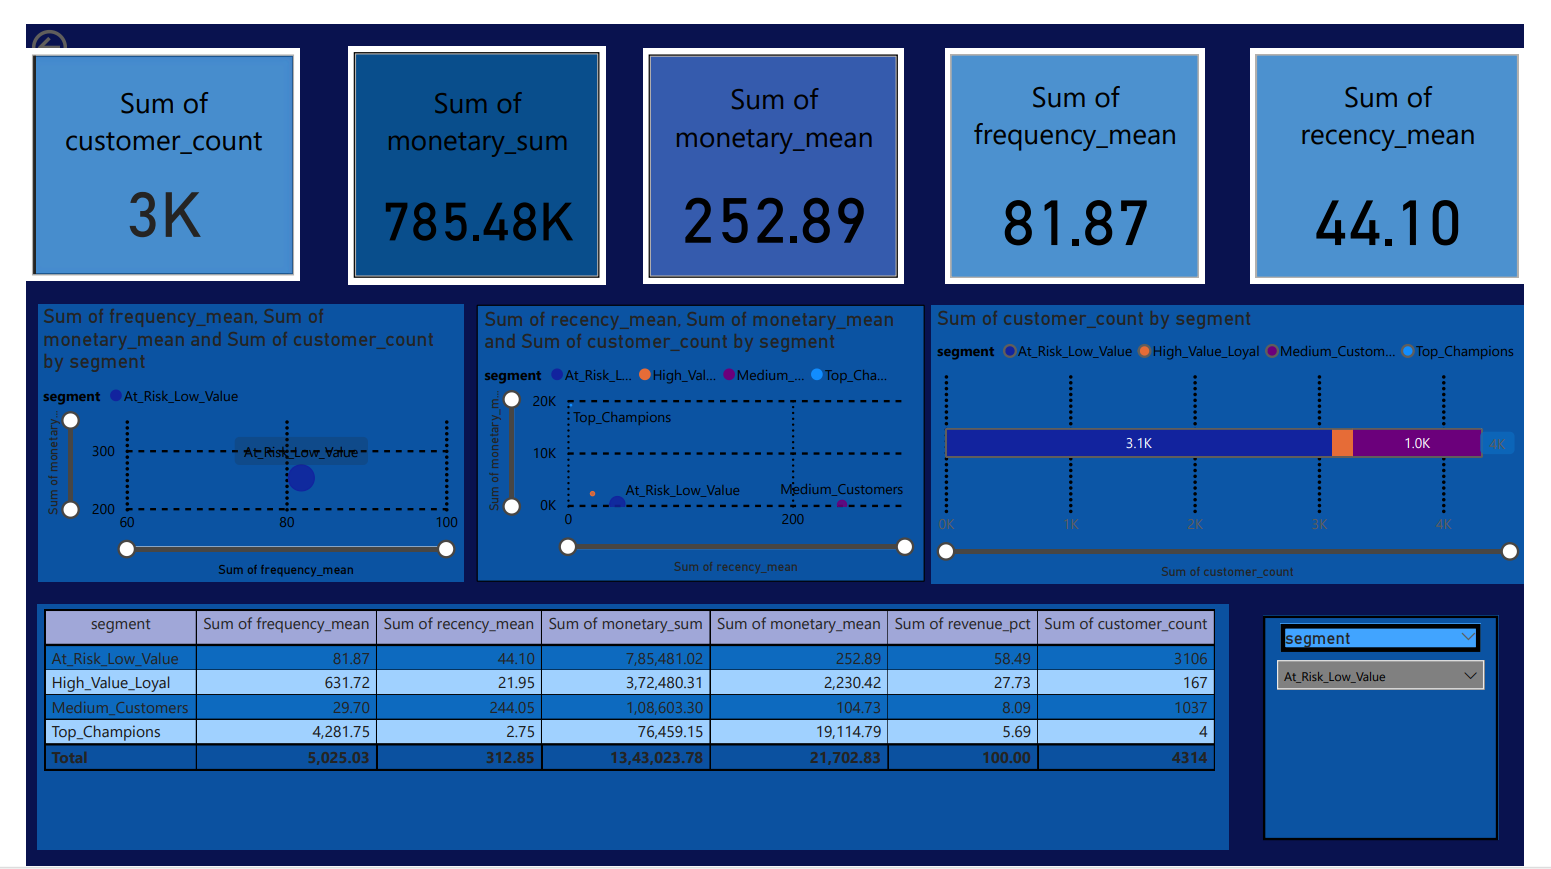

The page's visual inventory and layout, read from the dashboard file:
{"tool":"powerbi","page":{"name":"Page 1","canvas":[1280,720],"ordinal":0},"visuals":[{"type":"scatterChart","fields":{"X":["Sum(RFM_SegmentSummary_Enhanced.frequency_mean)"],"Y":["Sum(RFM_SegmentSummary_Enhanced.monetary_mean)"],"Series":["RFM_SegmentSummary_Enhanced.segment"],"Size":["Sum(RFM_SegmentSummary_Enhanced.customer_count)"]},"box":[10,240,364,237],"z":0},{"type":"scatterChart","fields":{"X":["Sum(RFM_SegmentSummary_Enhanced.recency_mean)"],"Y":["Sum(RFM_SegmentSummary_Enhanced.monetary_mean)"],"Series":["RFM_SegmentSummary_Enhanced.segment"],"Size":["Sum(RFM_SegmentSummary_Enhanced.customer_count)"]},"box":[385,240,383,237],"z":1000},{"type":"barChart","fields":{"Y":["Sum(RFM_SegmentSummary_Enhanced.customer_count)"],"Series":["RFM_SegmentSummary_Enhanced.segment"]},"box":[773.8,241.2,506.2,237.5],"z":2000},{"type":"slicer","fields":{"Values":["RFM_SegmentSummary_Enhanced.segment"]},"box":[1056.7,505.5,201.7,192.1],"z":3000},{"type":"tableEx","fields":{"Values":["RFM_SegmentSummary_Enhanced.segment","Sum(RFM_SegmentSummary_Enhanced.frequency_mean)","Sum(RFM_SegmentSummary_Enhanced.recency_mean)","Sum(RFM_SegmentSummary_Enhanced.monetary_sum)","Sum(RFM_SegmentSummary_Enhanced.monetary_mean)","Sum(RFM_SegmentSummary_Enhanced.revenue_pct)","Sum(RFM_SegmentSummary_Enhanced.customer_count)"]},"box":[10,496,1018,210],"z":4000},{"type":"actionButton","box":[0,0,100,40],"z":5000},{"type":"cardVisual","fields":{"Data":["Sum(RFM_SegmentSummary_Enhanced.customer_count)","select"]},"box":[0,21,234,199],"z":6000},{"type":"cardVisual","fields":{"Data":["Sum(RFM_SegmentSummary_Enhanced.monetary_sum)"]},"box":[275,18.8,220,203.8],"z":7000},{"type":"cardVisual","fields":{"Data":["Sum(RFM_SegmentSummary_Enhanced.monetary_mean)"]},"box":[527,21,223,201],"z":8000},{"type":"cardVisual","fields":{"Data":["Sum(RFM_SegmentSummary_Enhanced.frequency_mean)"]},"box":[785,21,222,201],"z":9000},{"type":"cardVisual","fields":{"Data":["Sum(RFM_SegmentSummary_Enhanced.recency_mean)"]},"box":[1046,21,234,201],"z":10000}]}

Visuals, with their boxes in screenshot pixels (x1, y1, x2, y2), scaled from the page's 1280x720 canvas onto the 1551x869 screenshot:
scatterChart - Sum(RFM_SegmentSummary_Enhanced.frequency_mean) x Sum(RFM_SegmentSummary_Enhanced.monetary_mean): box(12, 290, 453, 576)
scatterChart - Sum(RFM_SegmentSummary_Enhanced.recency_mean) x Sum(RFM_SegmentSummary_Enhanced.monetary_mean): box(467, 290, 931, 576)
barChart - Sum(RFM_SegmentSummary_Enhanced.customer_count) x RFM_SegmentSummary_Enhanced.segment: box(938, 291, 1550, 578)
slicer - RFM_SegmentSummary_Enhanced.segment: box(1280, 610, 1525, 842)
tableEx - RFM_SegmentSummary_Enhanced.segment x Sum(RFM_SegmentSummary_Enhanced.frequency_mean): box(12, 599, 1246, 852)
actionButton: box(0, 0, 121, 48)
cardVisual - Sum(RFM_SegmentSummary_Enhanced.customer_count) x select: box(0, 25, 284, 266)
cardVisual - Sum(RFM_SegmentSummary_Enhanced.monetary_sum): box(333, 23, 600, 269)
cardVisual - Sum(RFM_SegmentSummary_Enhanced.monetary_mean): box(639, 25, 909, 268)
cardVisual - Sum(RFM_SegmentSummary_Enhanced.frequency_mean): box(951, 25, 1220, 268)
cardVisual - Sum(RFM_SegmentSummary_Enhanced.recency_mean): box(1267, 25, 1550, 268)
